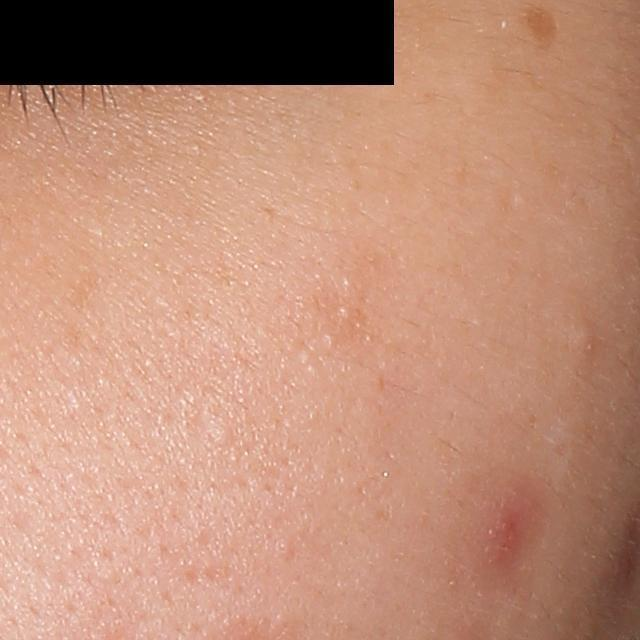comedo: (569, 324, 601, 366)
melasma: (523, 2, 560, 55)
papule: (467, 496, 520, 563)
